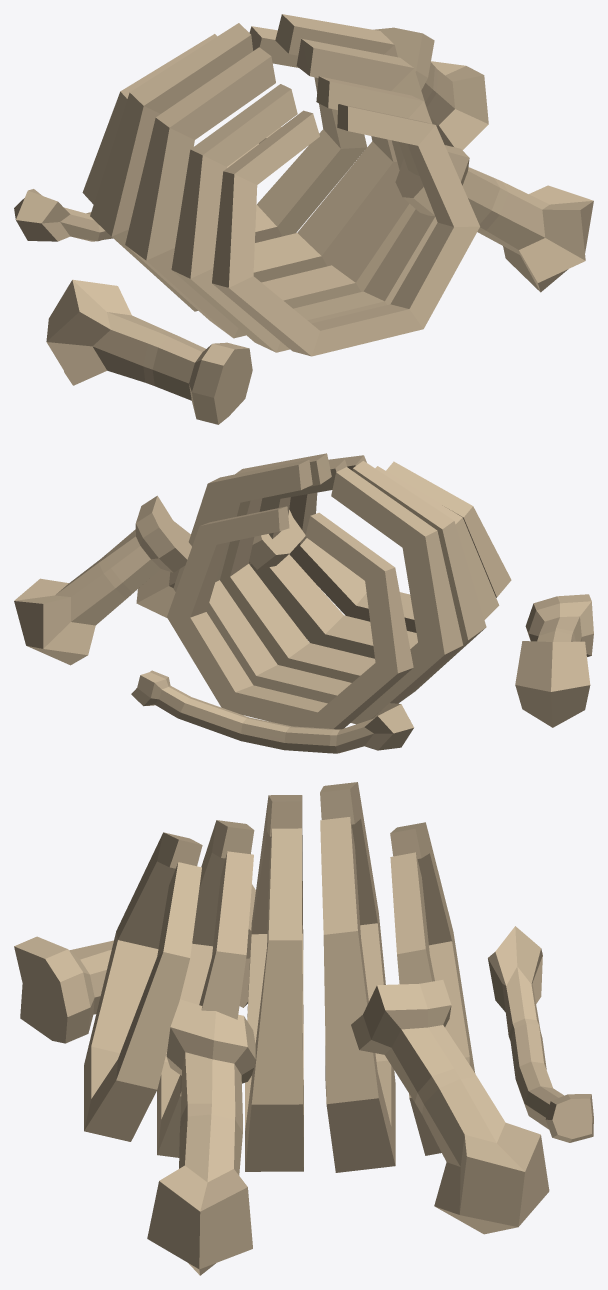
The model's file is Bones.glb.
3 views of the same model, one above another, from view 1: azimuth 30°, elevation 25°; view 2: azimuth 150°, elevation 25°; view 3: azimuth 270°, elevation 25° (orthographic). The views are drawn at different scales.
Parts seen in each view (by area): view 1: BonePile; view 2: BonePile; view 3: BonePile.
Part boxes in pixels (<box>): BonePile: <box>14,14,593,424</box>; BonePile: <box>14,453,593,753</box>; BonePile: <box>14,782,593,1275</box>.
Bounding box in the file's own units: 2.15 × 1.07 × 1.64.
